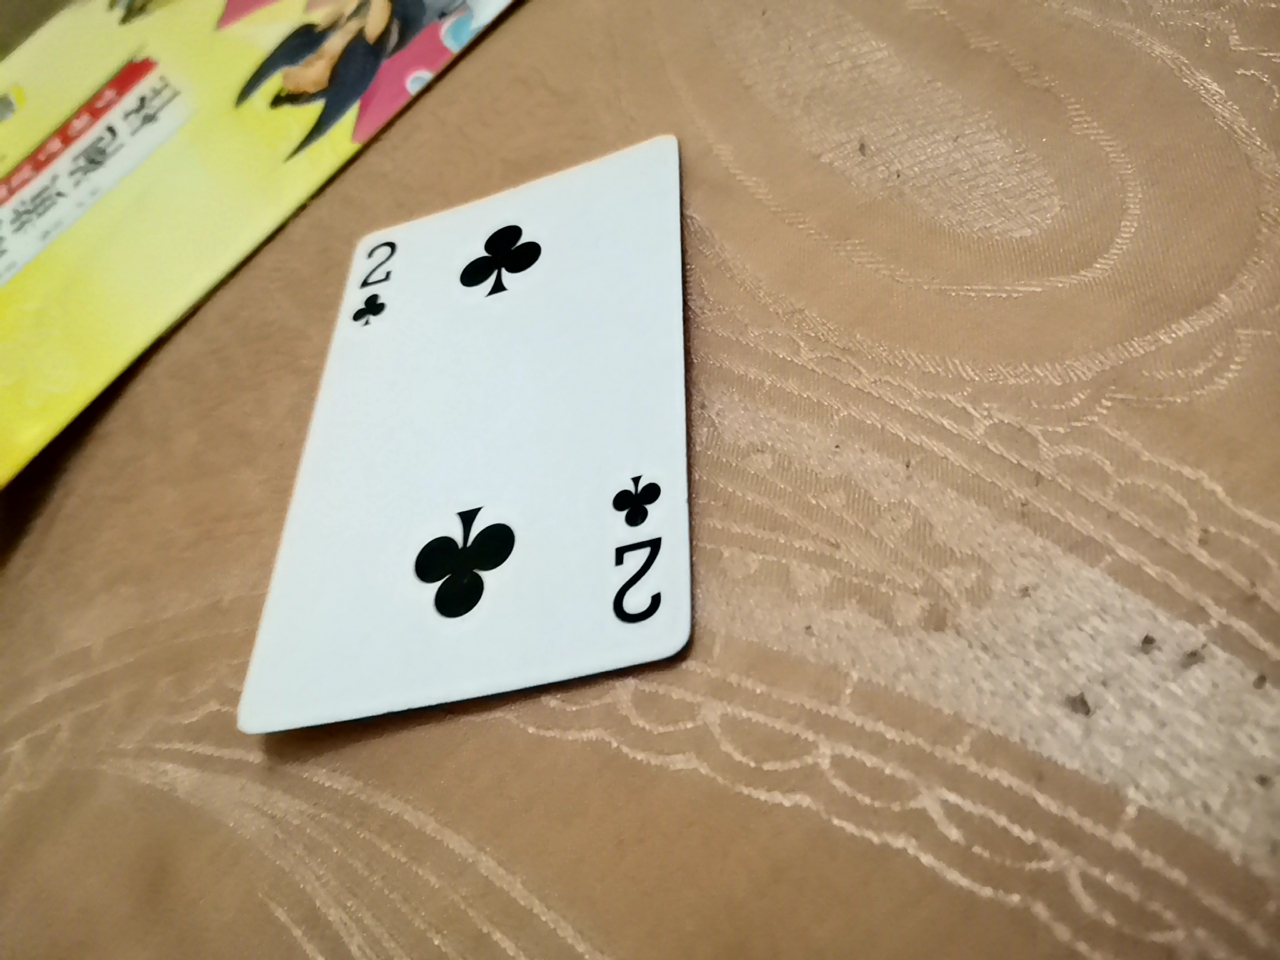mh 2: (166, 237, 622, 827)
